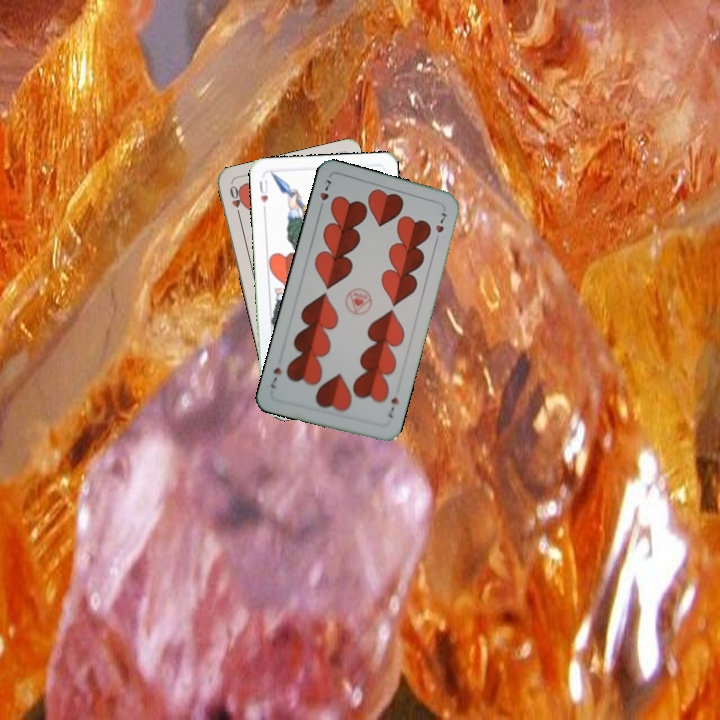H7: (315, 175, 334, 214), (384, 393, 401, 420)
HO: (225, 181, 245, 221)
HU: (255, 176, 270, 205)
